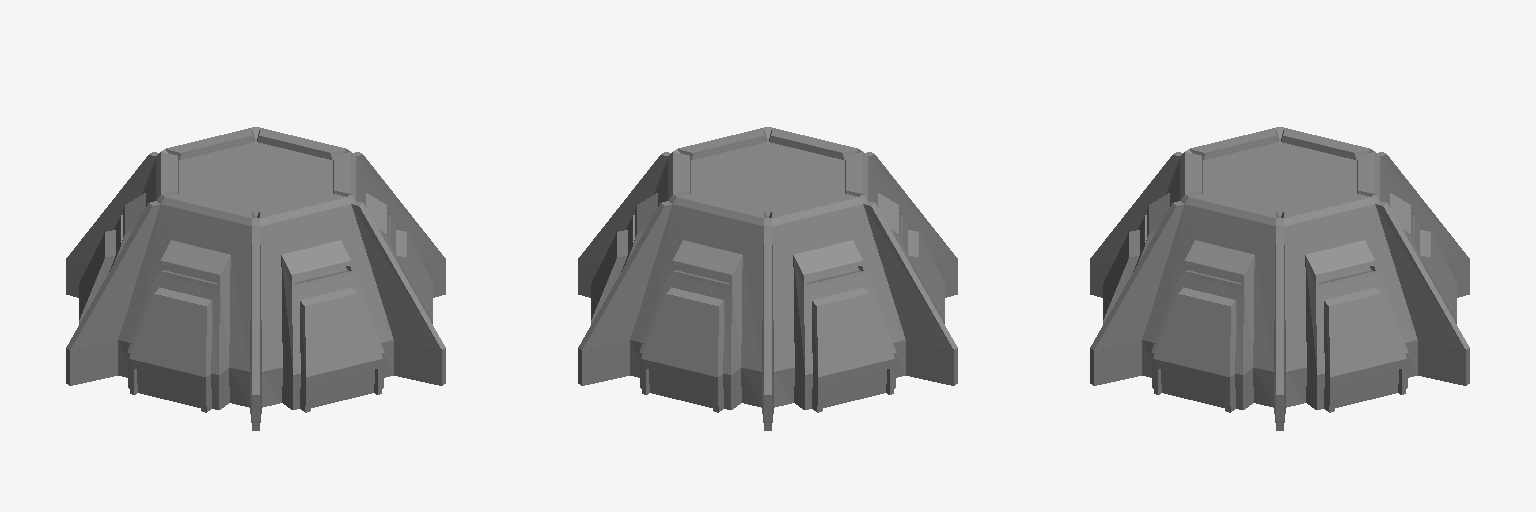
File: Bunker.obj
3 views of the same model, side by side, from view 1: azimuth 30°, elevation 25°; view 2: azimuth 150°, elevation 25°; view 3: azimuth 270°, elevation 25° (orthographic).
Parts seen in each view (by area): view 1: base; view 2: base; view 3: base.
Part boxes in pixels (bbox=[...]): base: bbox=[66, 127, 445, 430]; base: bbox=[578, 127, 957, 430]; base: bbox=[1090, 127, 1469, 430].
Size of the model in its own units: 85.2 by 35.99 by 74.51.